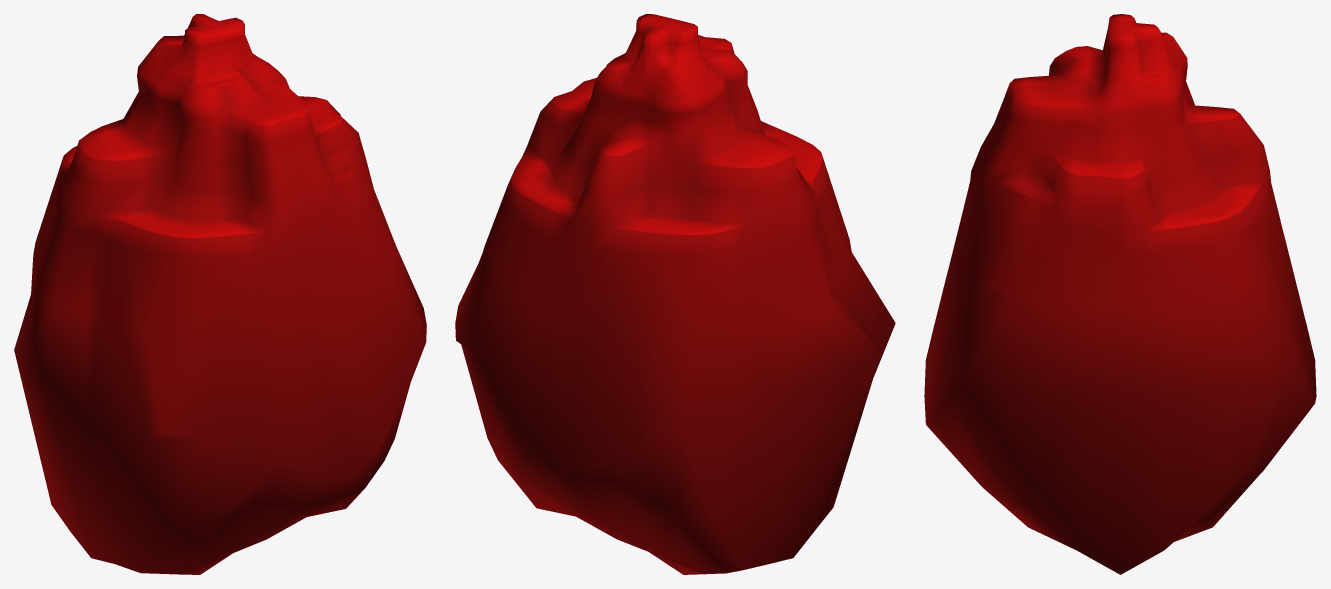
The model's file is geology-landforms-iceberg_v1.fbx.
3 renders of one model, left to right at view 1: azimuth 30°, elevation 25°; view 2: azimuth 150°, elevation 25°; view 3: azimuth 270°, elevation 25°, orthographic. The views are drawn at different scales.
Parts seen in each view (by area): view 1: Iceberg_v1; view 2: Iceberg_v1; view 3: Iceberg_v1.
Boxes of the visible parts, <box> form: Iceberg_v1: <box>14,14,426,574</box>; Iceberg_v1: <box>455,14,895,574</box>; Iceberg_v1: <box>924,14,1316,574</box>.
Size of the model in its own units: 7.16 by 9.74 by 6.72.
